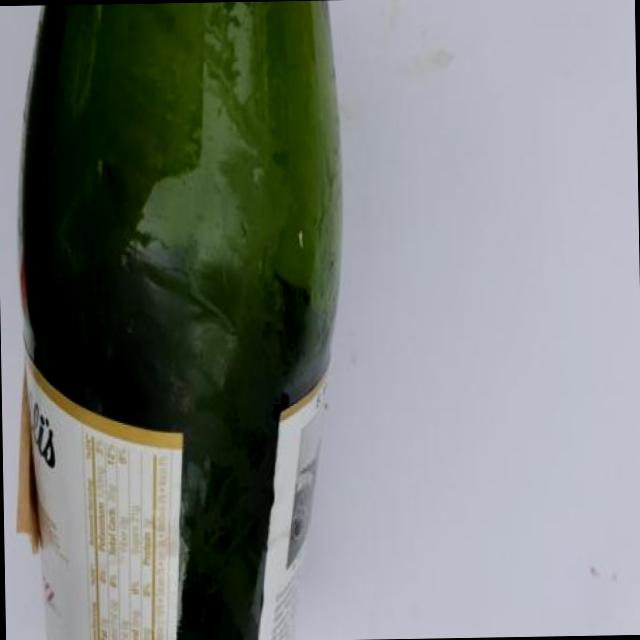chai_thuy_tinh: (20, 0, 338, 640)
